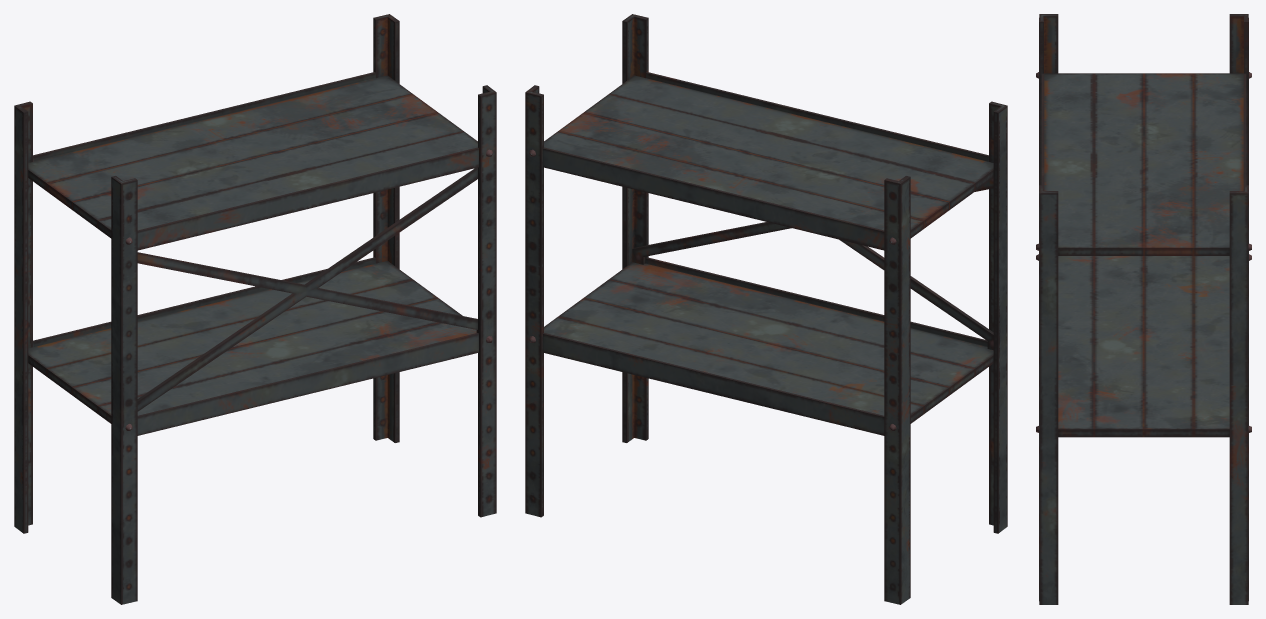
File: Metal_Shelf.fbx
3 views of the same model, side by side, from view 1: azimuth 30°, elevation 25°; view 2: azimuth 150°, elevation 25°; view 3: azimuth 270°, elevation 25° (orthographic). The views are drawn at different scales.
Parts seen in each view (by area): view 1: Metal_Shelf_LOD0; view 2: Metal_Shelf_LOD0; view 3: Metal_Shelf_LOD0.
Part boxes in pixels (x1,y1,x2,y2): Metal_Shelf_LOD0: [14, 14, 496, 604]; Metal_Shelf_LOD0: [525, 14, 1007, 604]; Metal_Shelf_LOD0: [1036, 14, 1251, 604].
Size of what is drawn, in the model's own units: 186 by 199 by 94.55.
